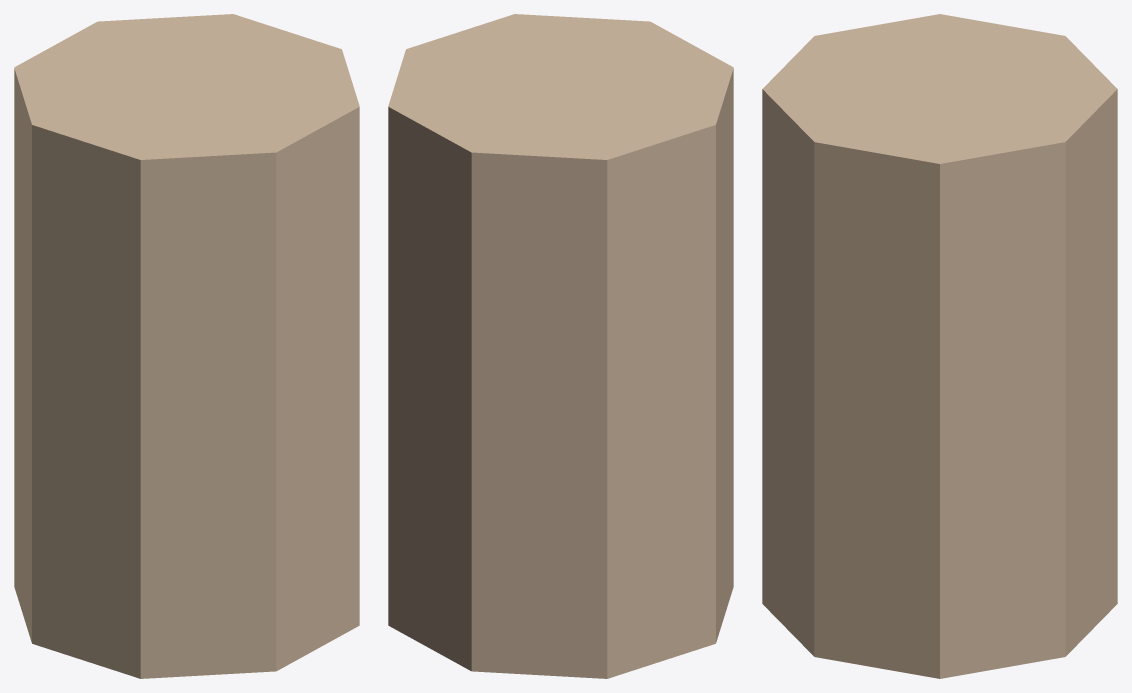
The model's file is airlock tube collider.obj.
3 renders of one model, left to right at view 1: azimuth 30°, elevation 25°; view 2: azimuth 150°, elevation 25°; view 3: azimuth 270°, elevation 25°, orthographic.
Visible parts, largest first — view 1: c; view 2: c; view 3: c.
Part boxes in pixels (x1,y1,x2,y2): c: (14,14,359,678); c: (388,14,733,678); c: (762,14,1117,678).
Size of the model in its own units: 0.625 by 1 by 0.625.
